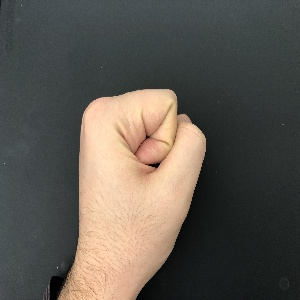hand: (78, 88, 206, 257)
